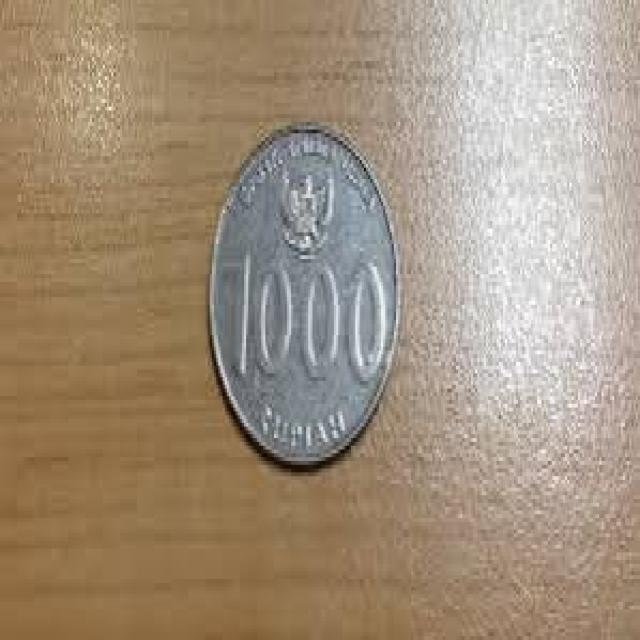coin_1000_e2010: (201, 122, 404, 482)
